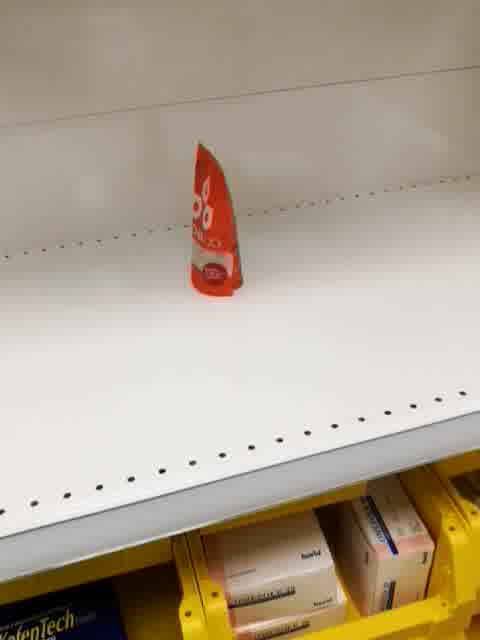whitechia: (187, 139, 248, 300)
